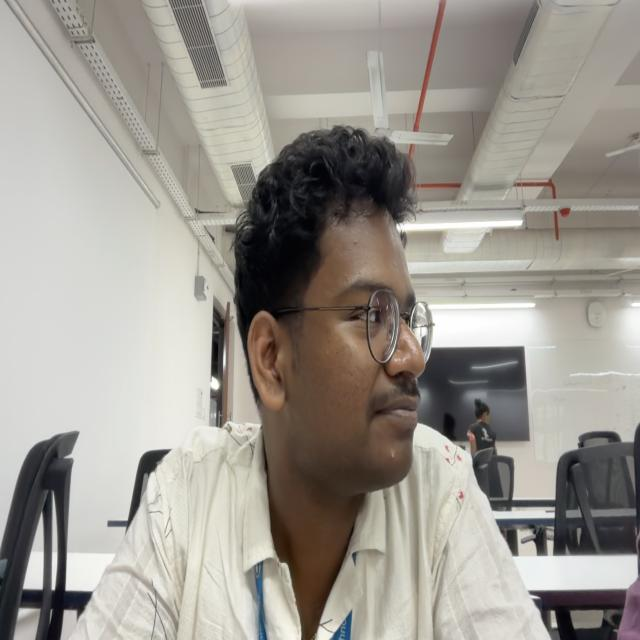sai: (237, 126, 434, 488)
